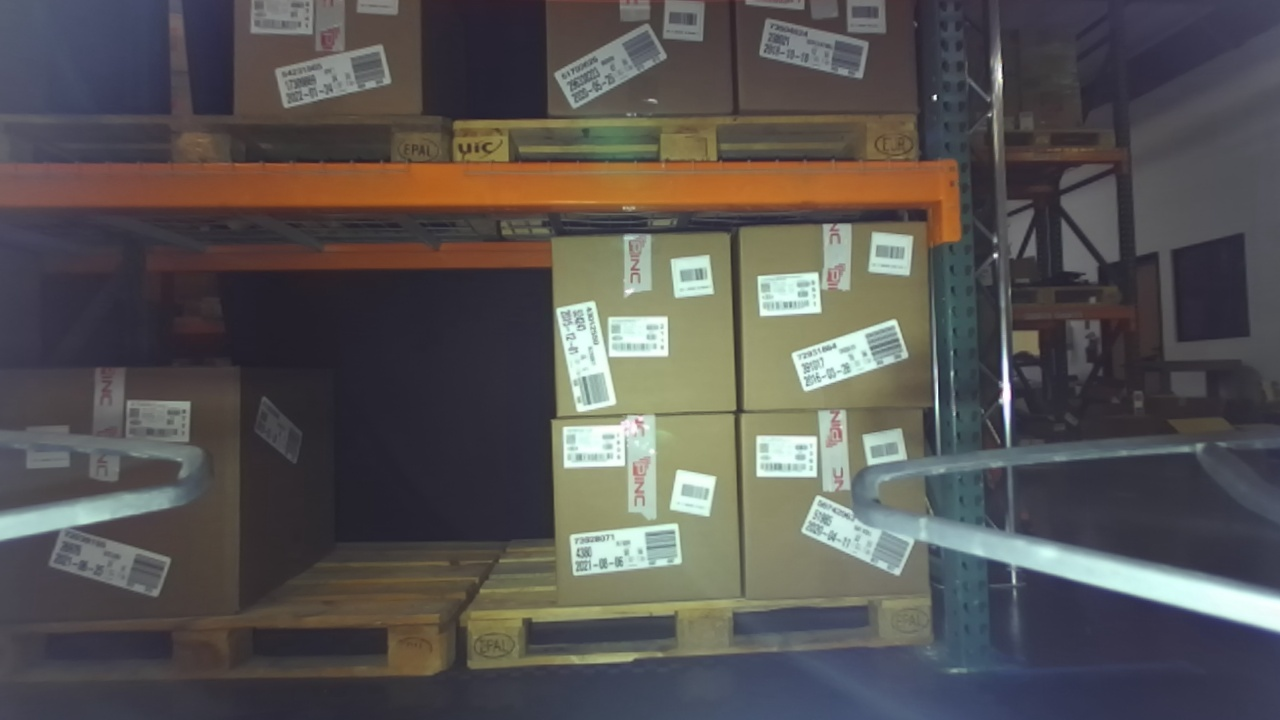box: (1, 345, 270, 637), (525, 203, 771, 442), (720, 388, 956, 625), (533, 395, 766, 624), (709, 212, 955, 425), (210, 1, 462, 137), (711, 1, 941, 143), (521, 1, 746, 144)
